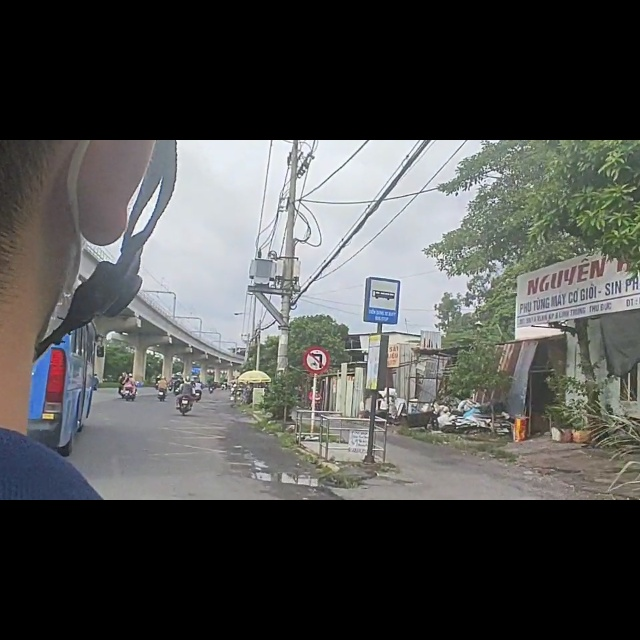bien_cam: (364, 238, 401, 328), (301, 365, 334, 416)
